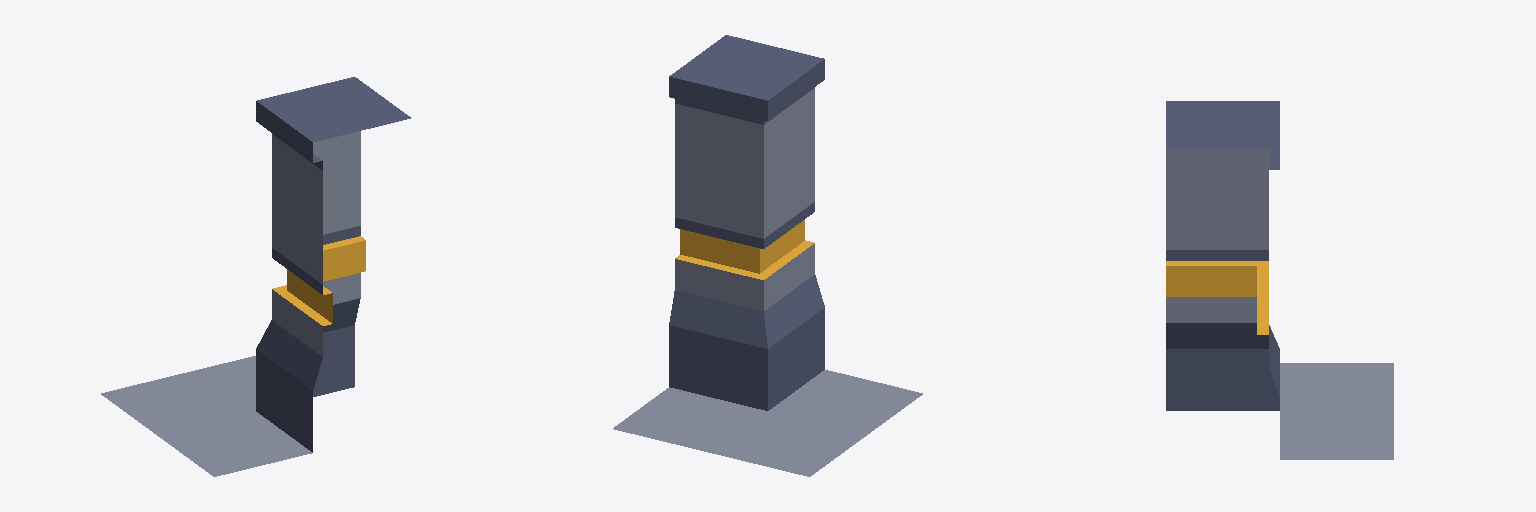
The model's file is structure-corner-outer.obj.
3 renders of one model, left to right at view 1: azimuth 30°, elevation 25°; view 2: azimuth 150°, elevation 25°; view 3: azimuth 270°, elevation 25°, orthographic.
Visible parts, largest first — view 1: structure-corner-outer; view 2: structure-corner-outer; view 3: structure-corner-outer.
Part boxes in pixels (bbox=[...]): structure-corner-outer: bbox=[101, 77, 410, 476]; structure-corner-outer: bbox=[613, 35, 922, 476]; structure-corner-outer: bbox=[1166, 101, 1393, 459].
Bounding box in the file's own units: 2 × 3 × 2.